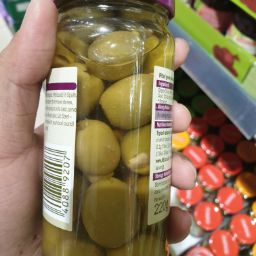Olives: (69, 18, 153, 204), (74, 52, 148, 256), (66, 24, 175, 98), (80, 64, 153, 143), (81, 180, 148, 249), (72, 110, 130, 185), (84, 30, 148, 76), (116, 127, 151, 188)
